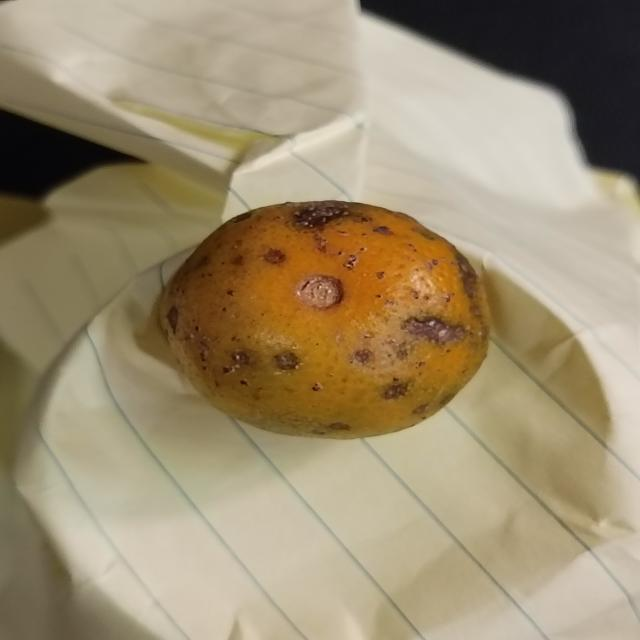black spot: (158, 198, 496, 443)
